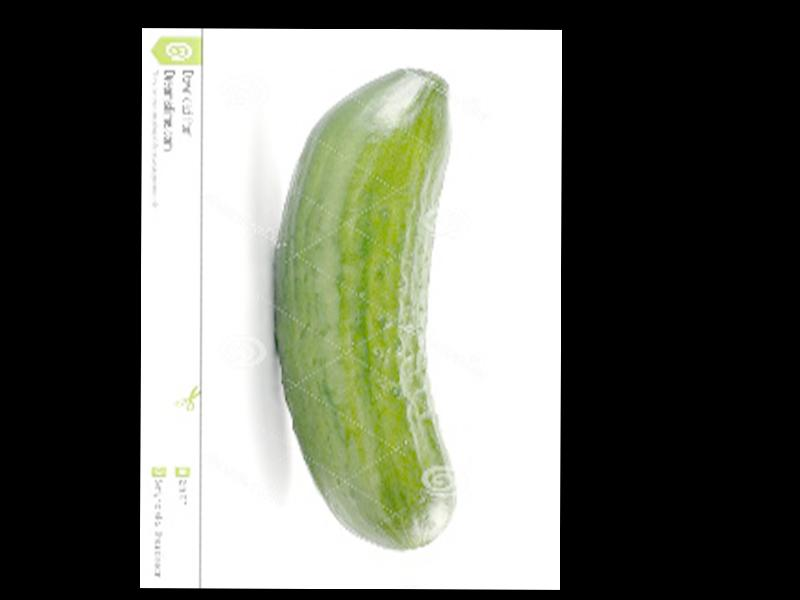Cucumber: (272, 70, 452, 550)
